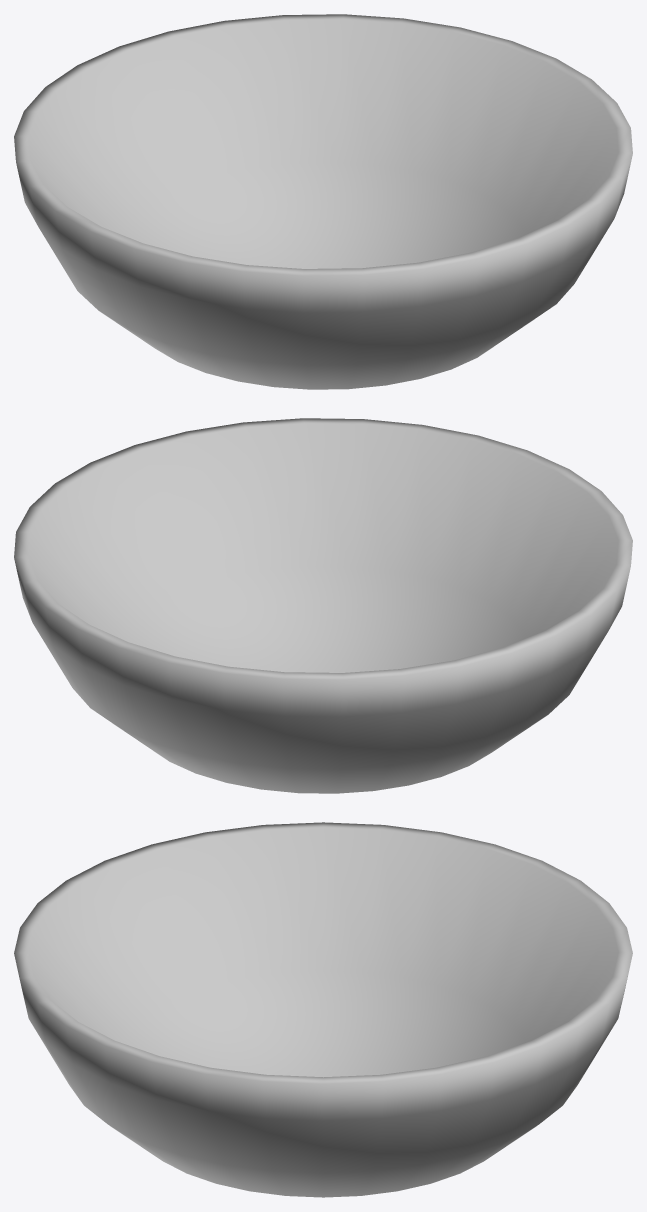
Rendered from bowl.glb.
3 renders of one model, top to bottom at view 1: azimuth 30°, elevation 25°; view 2: azimuth 150°, elevation 25°; view 3: azimuth 270°, elevation 25°, orthographic.
Parts seen in each view (by area): view 1: bowl; view 2: bowl; view 3: bowl.
Part boxes in pixels (x1,y1,x2,y2): bowl: [14, 14, 632, 389]; bowl: [14, 418, 632, 793]; bowl: [14, 822, 632, 1197].
Size of the model in its own units: 0.5357 by 0.1971 by 0.5357.
1 material, 1 textured.
